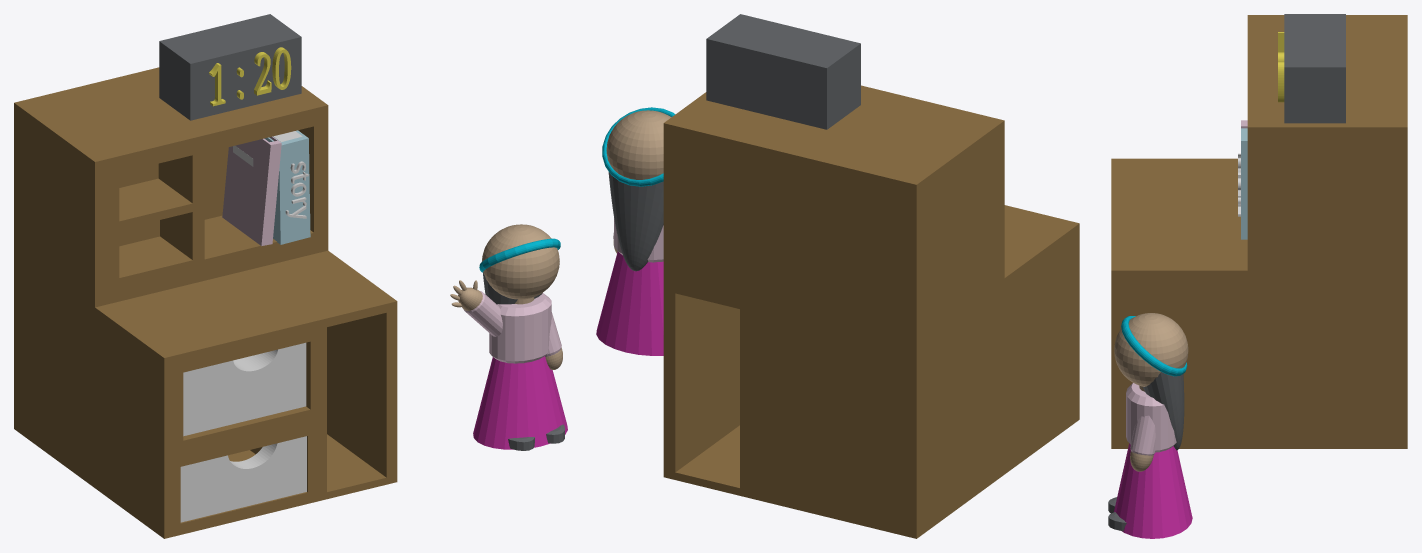
The model's file is P149 Night stand.glb.
The picture shows the model from 3 angles, left to right: view 1: azimuth 30°, elevation 25°; view 2: azimuth 150°, elevation 25°; view 3: azimuth 270°, elevation 25°; orthographic projection. The views are drawn at different scales.
Parts seen in each view (by area): view 1: Mesh_Mesh_head_geo.001_lambert2SG.001; view 2: Mesh_Mesh_head_geo.001_lambert2SG.001; view 3: Mesh_Mesh_head_geo.001_lambert2SG.001.
Boxes of the visible parts, x1=… form: Mesh_Mesh_head_geo.001_lambert2SG.001: x1=14, y1=14, x2=567, y2=538; Mesh_Mesh_head_geo.001_lambert2SG.001: x1=596, y1=14, x2=1079, y2=538; Mesh_Mesh_head_geo.001_lambert2SG.001: x1=1108, y1=14, x2=1407, y2=538.
Size of the model in its own units: 155 by 135 by 97.
